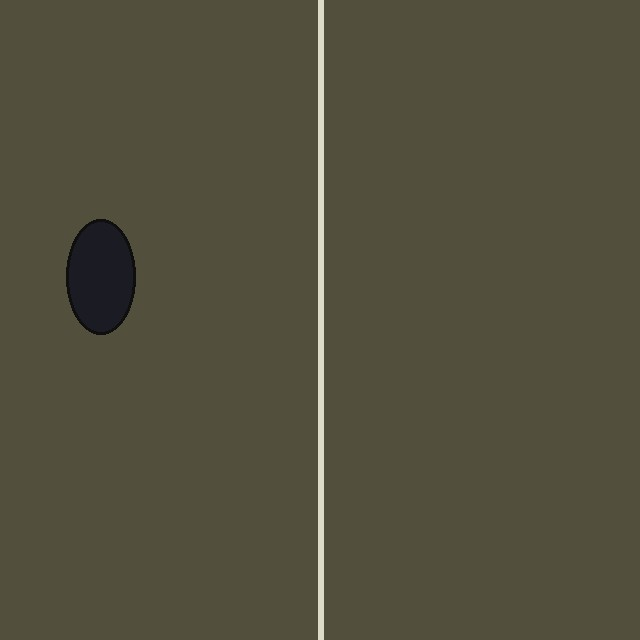pothole: (66, 219, 135, 334)
